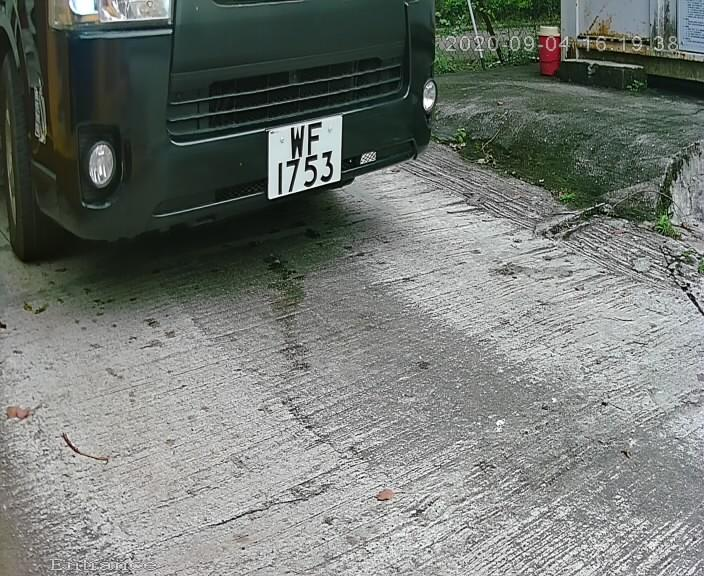Car: (10, 3, 500, 299)
License Plate: (258, 109, 353, 206)
